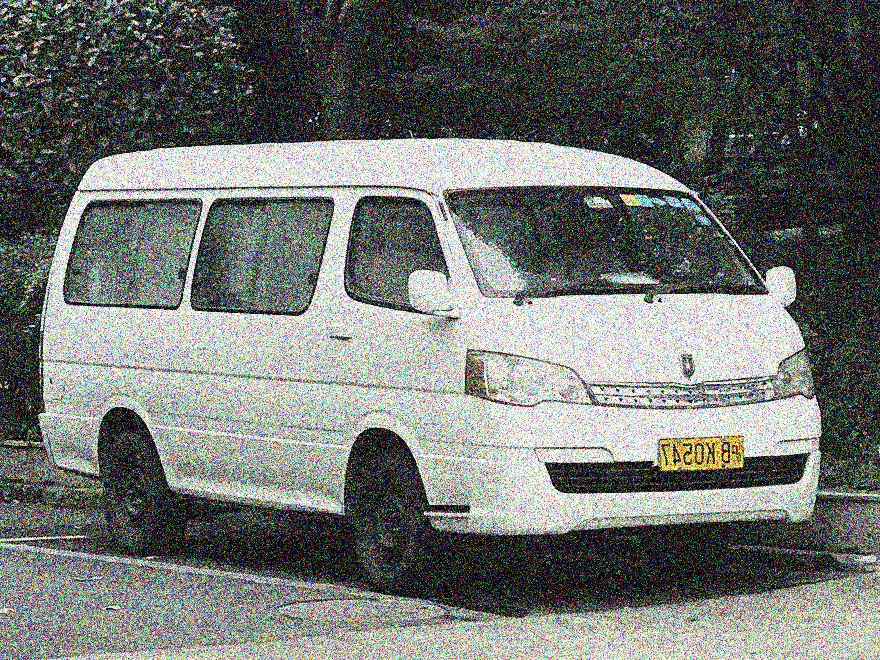van: (34, 127, 823, 587)
